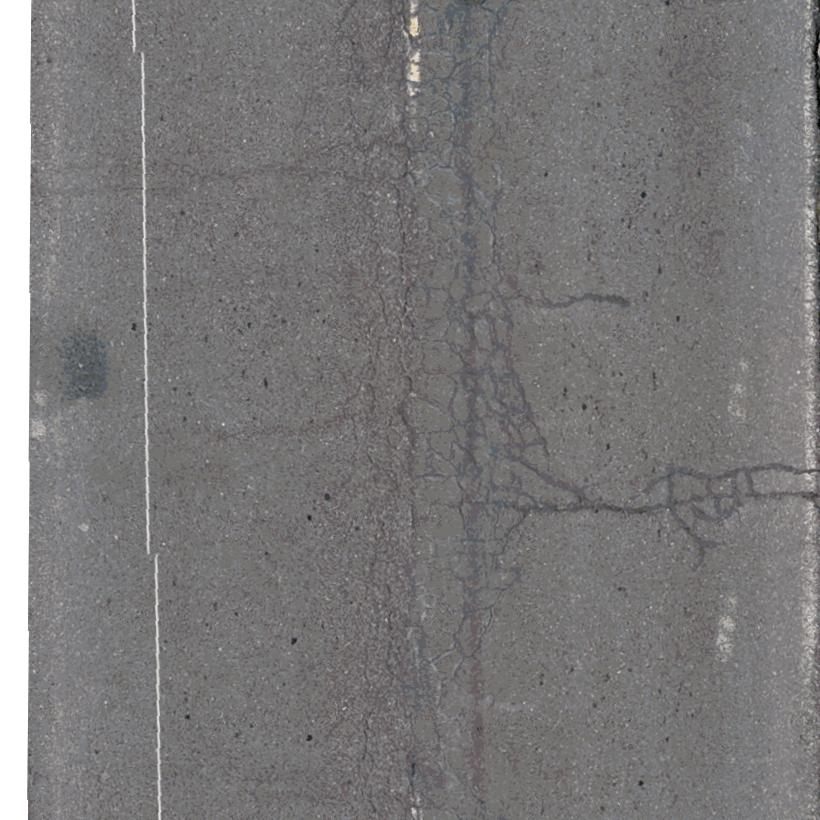GRIETA: (524, 293, 632, 309), (758, 491, 819, 509), (752, 463, 819, 474), (590, 501, 642, 514)
PARCHE: (60, 331, 108, 398)
PIEL DE COCODRILO: (286, 0, 589, 819), (641, 465, 757, 570)
